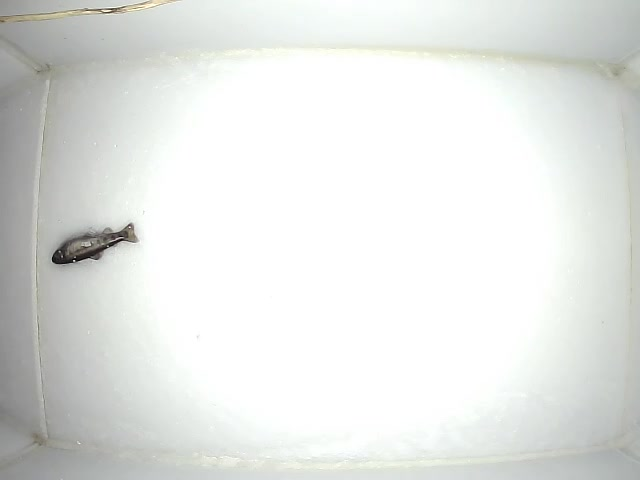fish: (50, 220, 140, 266)
